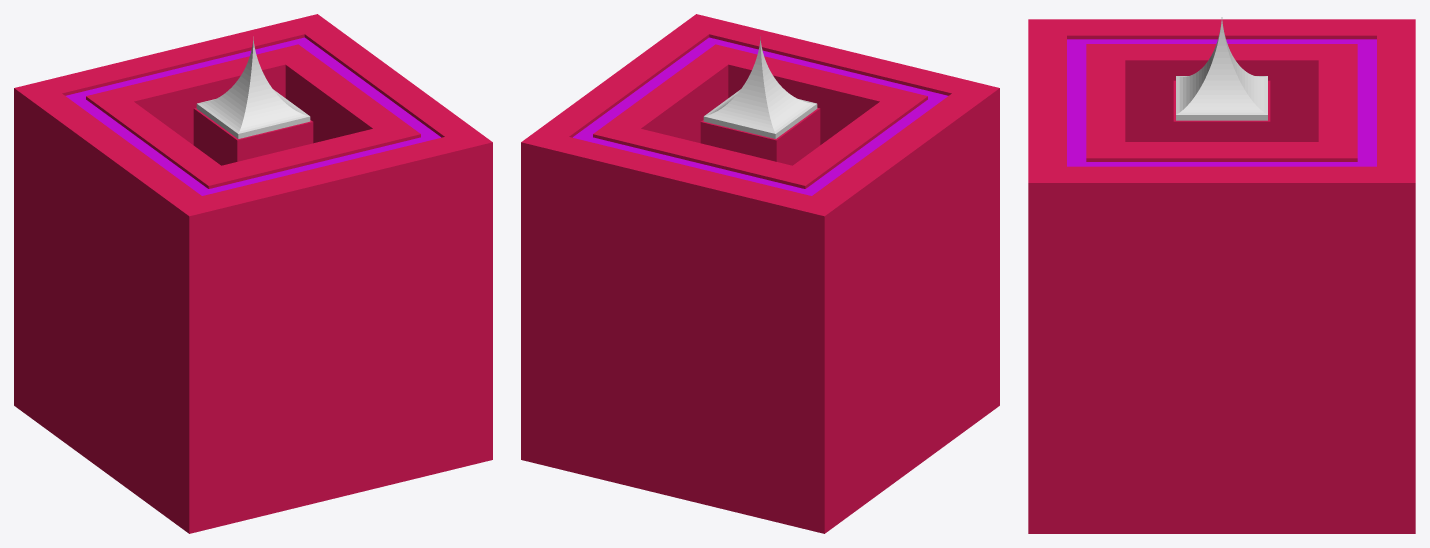
Rendered from CubeGenerater.fbx.
3 renders of one model, left to right at view 1: azimuth 30°, elevation 25°; view 2: azimuth 150°, elevation 25°; view 3: azimuth 270°, elevation 25°, orthographic. The views are drawn at different scales.
Visible parts, largest first — view 1: Cube, 평면, 오브젝트; view 2: Cube, 평면, 오브젝트; view 3: Cube, 평면, 오브젝트.
Part boxes in pixels (x1,y1,x2,y2): Cube: [14, 14, 492, 533]; 평면: [66, 37, 440, 195]; 오브젝트: [196, 36, 310, 138]; Cube: [521, 14, 999, 533]; 평면: [573, 37, 947, 195]; 오브젝트: [703, 36, 817, 138]; Cube: [1028, 19, 1415, 533]; 평면: [1067, 39, 1376, 166]; 오브젝트: [1176, 17, 1267, 120].
Size of the model in its own units: 400 by 499 by 400.
